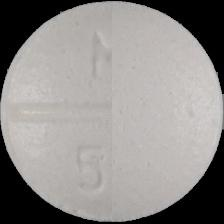0378-0052: (0, 0, 224, 224)
